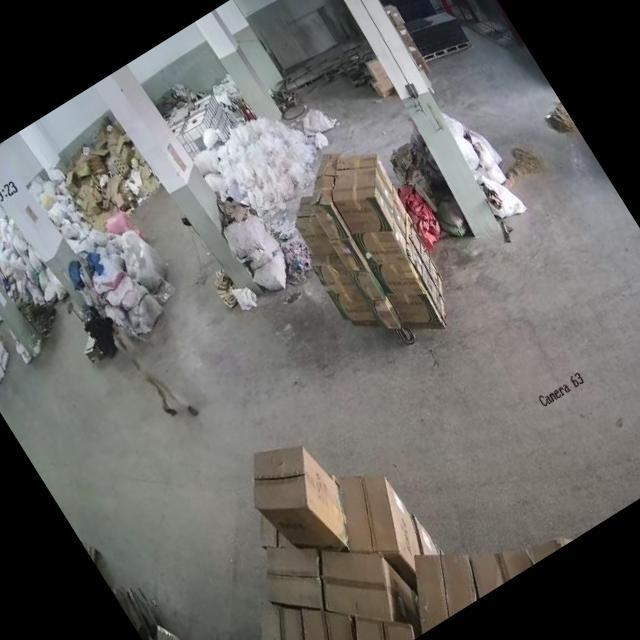person: (103, 306, 202, 436)
